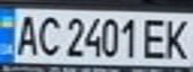0: (100, 15, 121, 58)
1: (118, 15, 142, 58)
2: (63, 14, 87, 58)
4: (81, 15, 103, 58)
A: (9, 11, 42, 57)
C: (33, 12, 63, 57)
E: (139, 15, 172, 61)
K: (160, 16, 193, 61)
